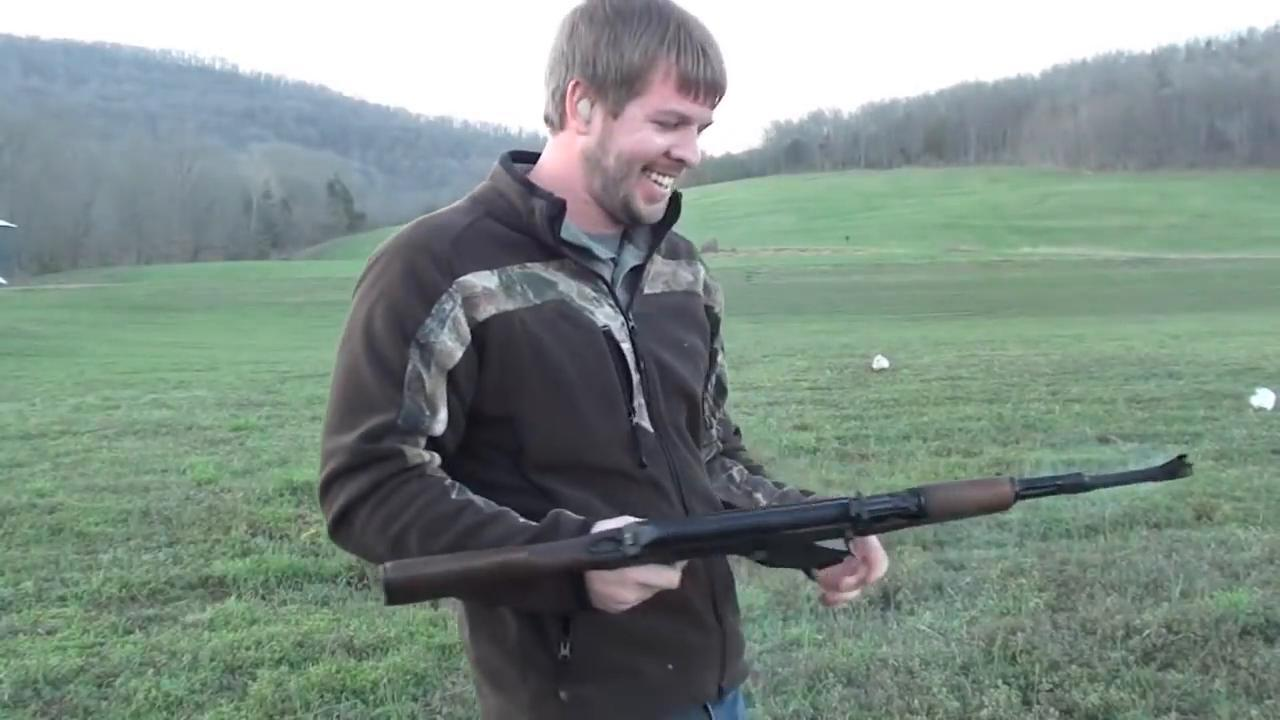AK47 Rifle: (381, 449, 1197, 613)
